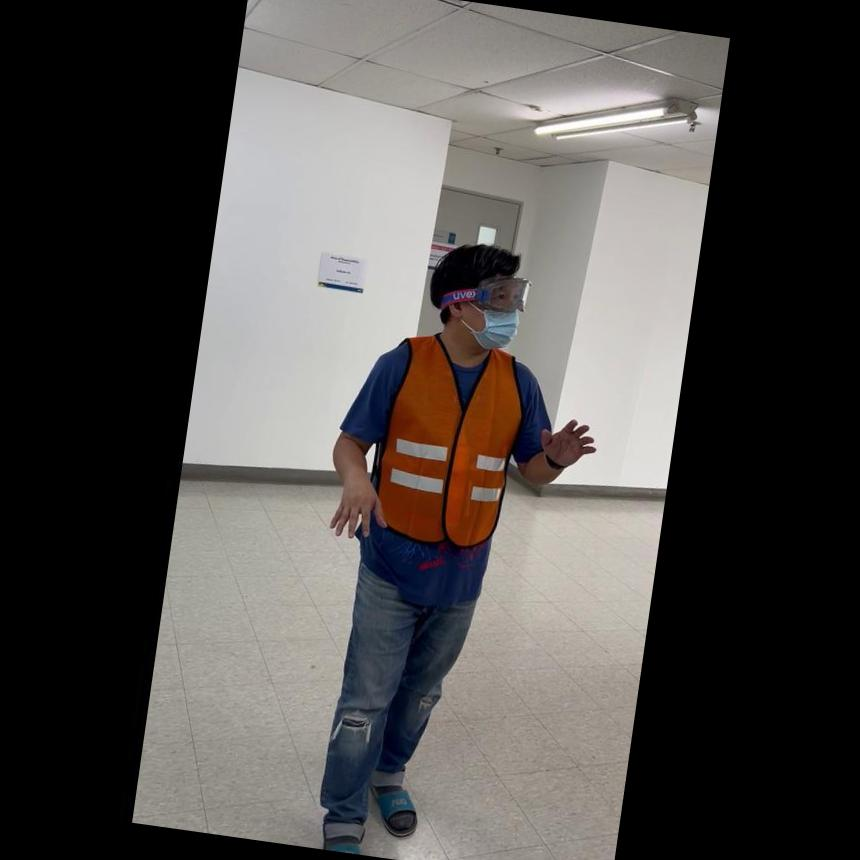No-gloves: (321, 456, 392, 544), (535, 406, 598, 472)
